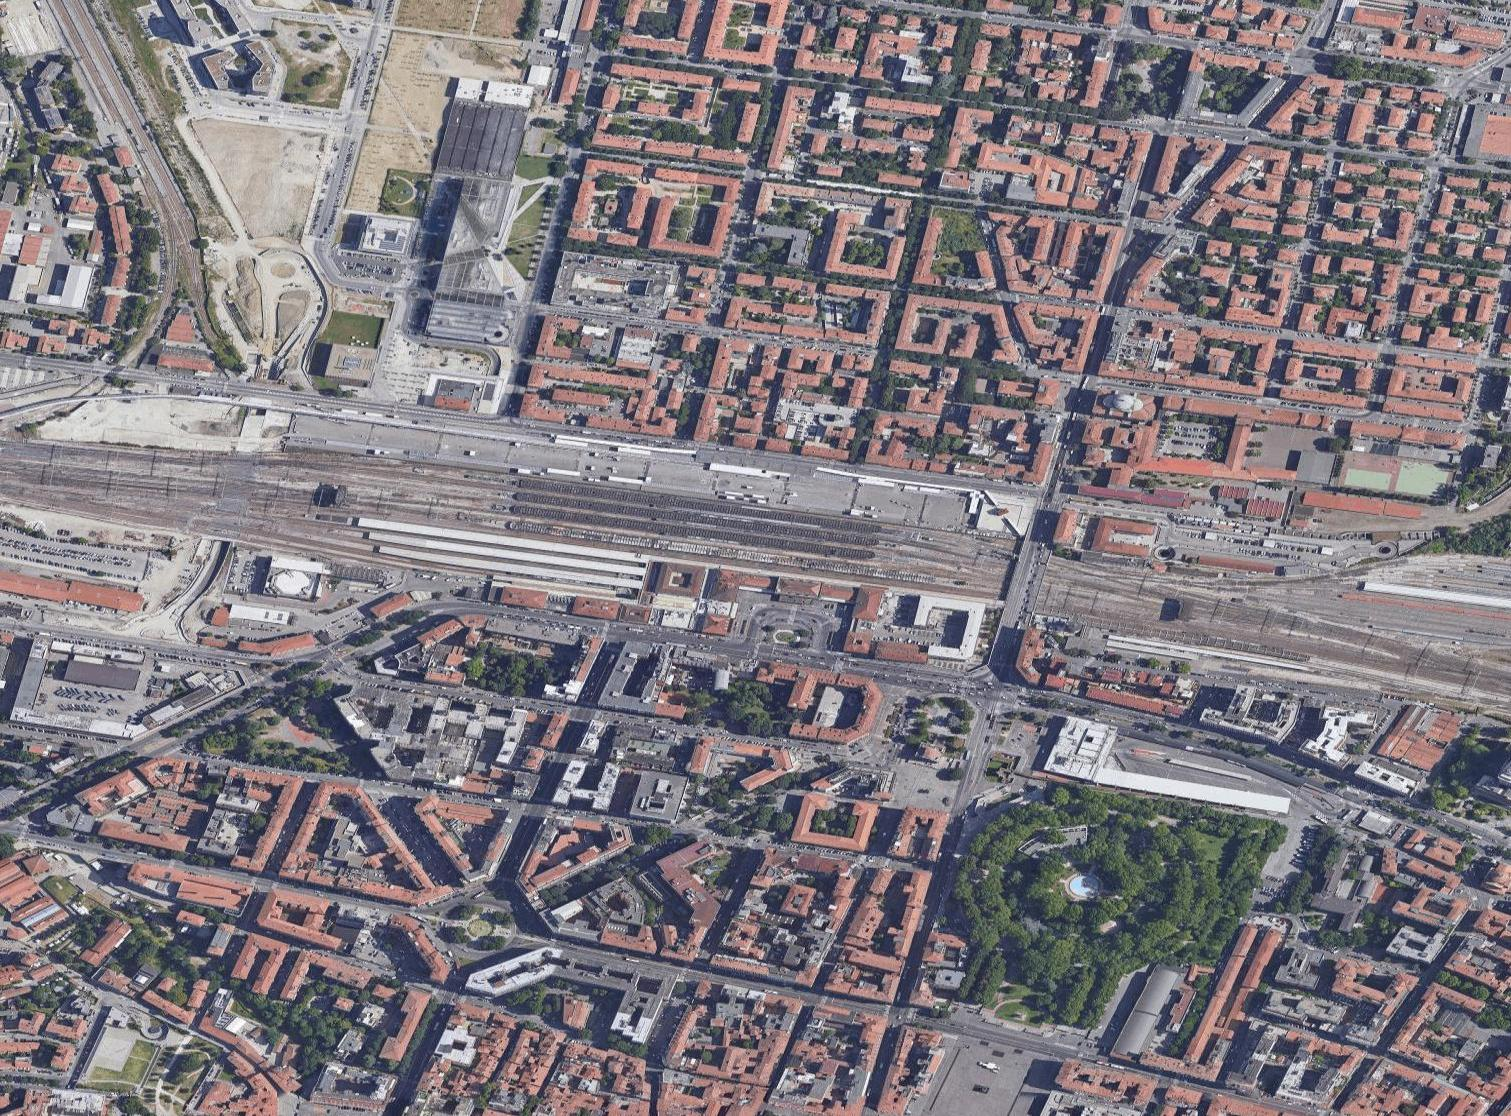bridge: (1000, 530, 1053, 607)
train_station: (463, 442, 895, 586)
